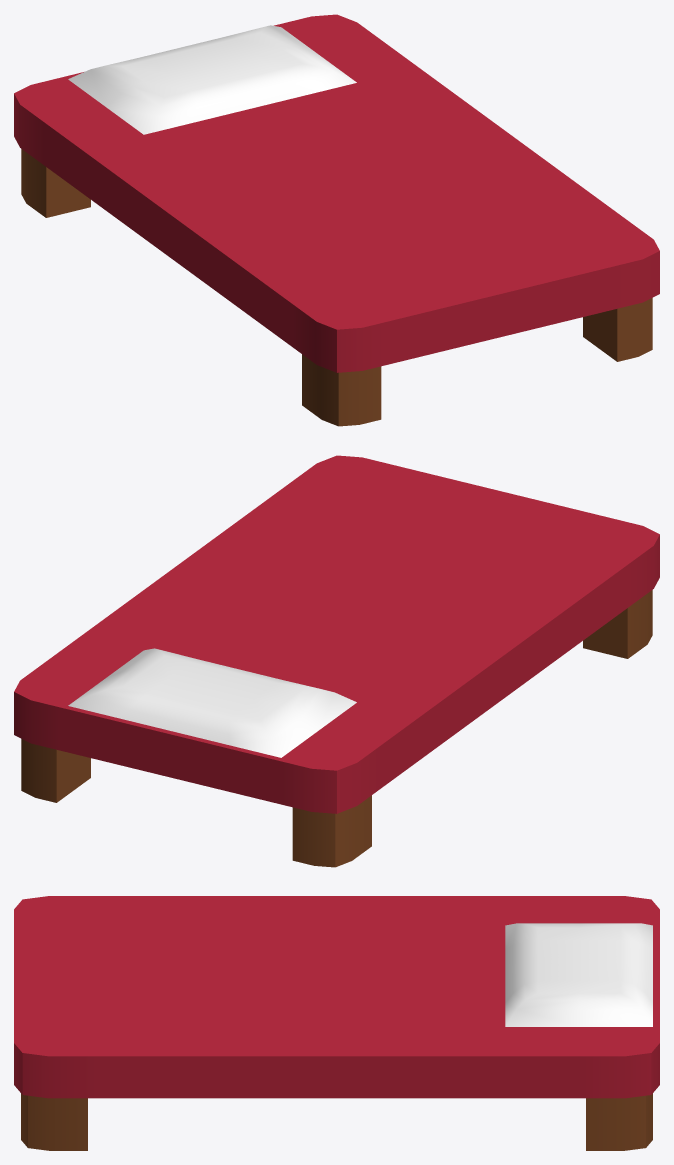
File: Cama.fbx
3 renders of one model, top to bottom at view 1: azimuth 30°, elevation 25°; view 2: azimuth 150°, elevation 25°; view 3: azimuth 270°, elevation 25°, orthographic. The views are drawn at different scales.
Parts seen in each view (by area): view 1: Cama; view 2: Cama; view 3: Cama.
Boxes of the visible parts, box(x1,y1,x2,y2) form: Cama: box(14, 14, 659, 426); Cama: box(14, 455, 659, 867); Cama: box(14, 896, 659, 1150).
Bounding box in the file's own units: 155 × 50.98 × 264.
